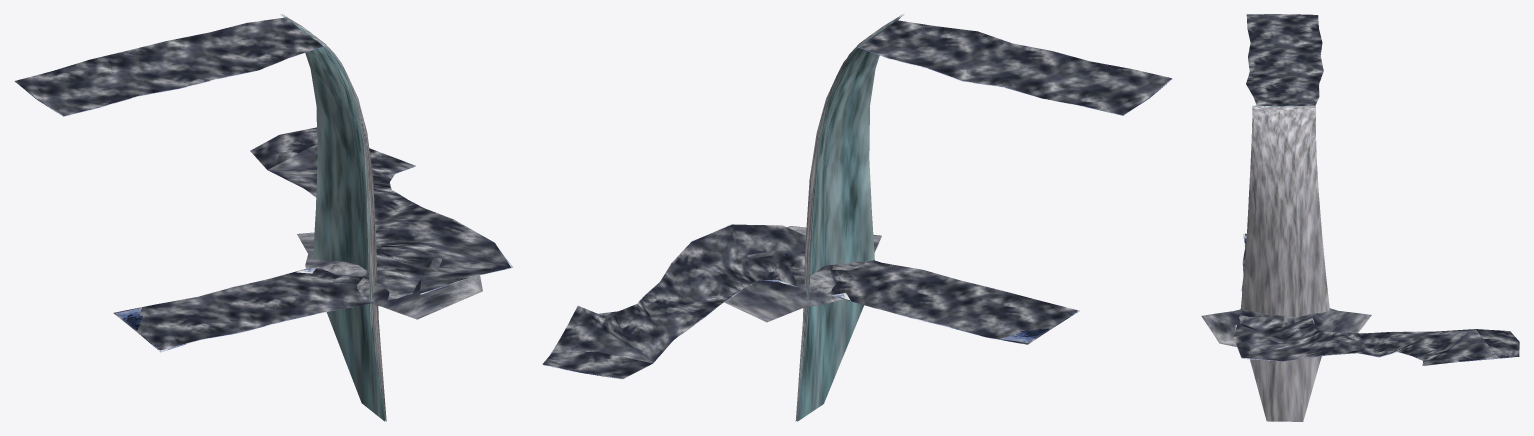
The model's file is LONE_MOUNTAIN_WATERFALLS_ARKENSTONE_WATERWAY.fbx.
The picture shows the model from 3 angles, left to right: view 1: azimuth 30°, elevation 25°; view 2: azimuth 150°, elevation 25°; view 3: azimuth 270°, elevation 25°; orthographic projection. The views are drawn at different scales.
Parts seen in each view (by area): view 1: LONE_MOUNTAIN_WATERFALLS_ARKENSTONE_WATERWAY; view 2: LONE_MOUNTAIN_WATERFALLS_ARKENSTONE_WATERWAY; view 3: LONE_MOUNTAIN_WATERFALLS_ARKENSTONE_WATERWAY.
Boxes of the visible parts, bbox=[...] form: LONE_MOUNTAIN_WATERFALLS_ARKENSTONE_WATERWAY: bbox=[14, 14, 513, 421]; LONE_MOUNTAIN_WATERFALLS_ARKENSTONE_WATERWAY: bbox=[542, 14, 1172, 421]; LONE_MOUNTAIN_WATERFALLS_ARKENSTONE_WATERWAY: bbox=[1201, 14, 1519, 421].
Size of the model in its own units: 209029 by 167976 by 167233.
Materials: 5 (5 with a texture image).
